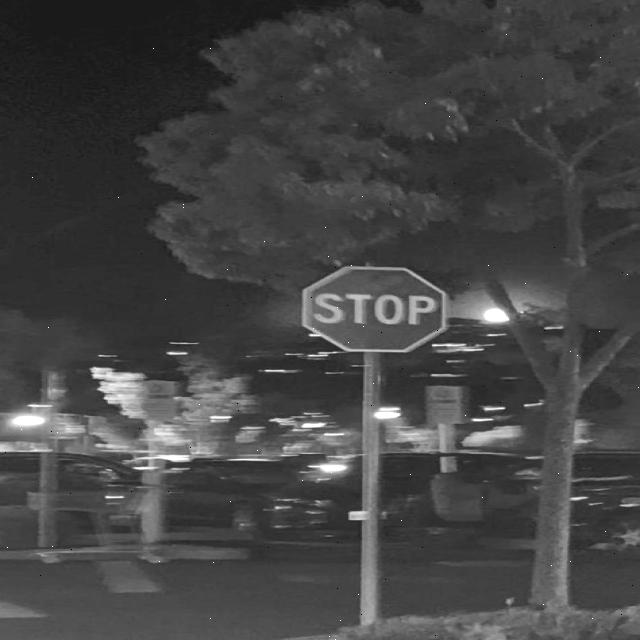Stop-sign: (247, 244, 477, 369)
